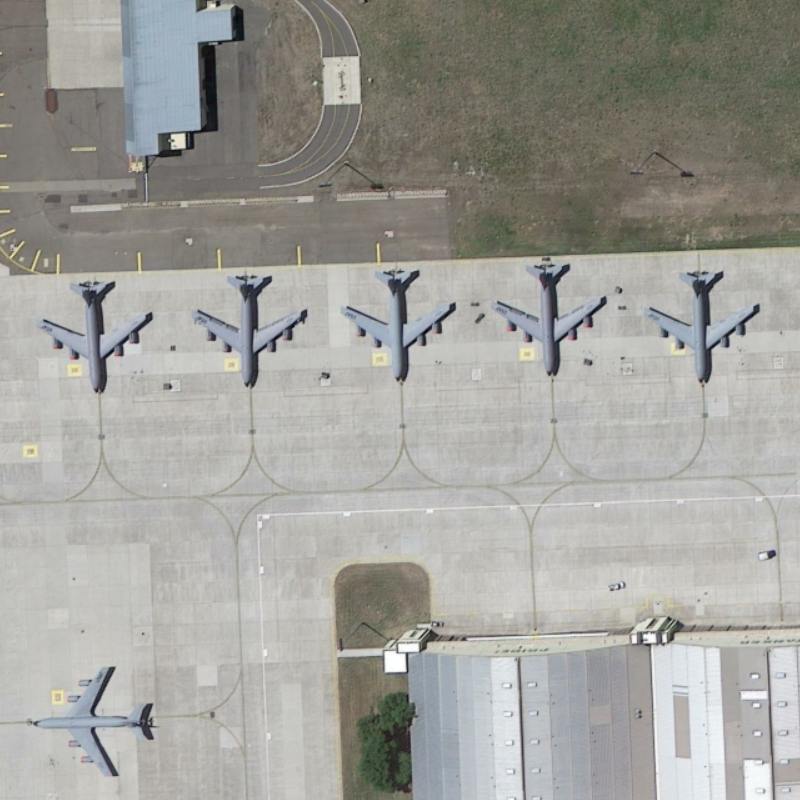A14: (26, 656, 173, 783), (188, 261, 311, 394), (483, 260, 615, 382), (643, 257, 765, 389), (338, 262, 461, 389), (38, 278, 156, 402)
